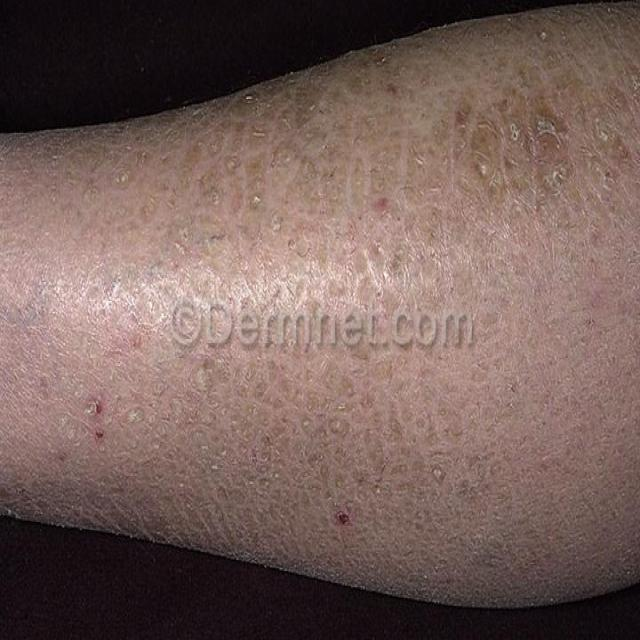liquenificacion 1: (0, 11, 639, 615)
